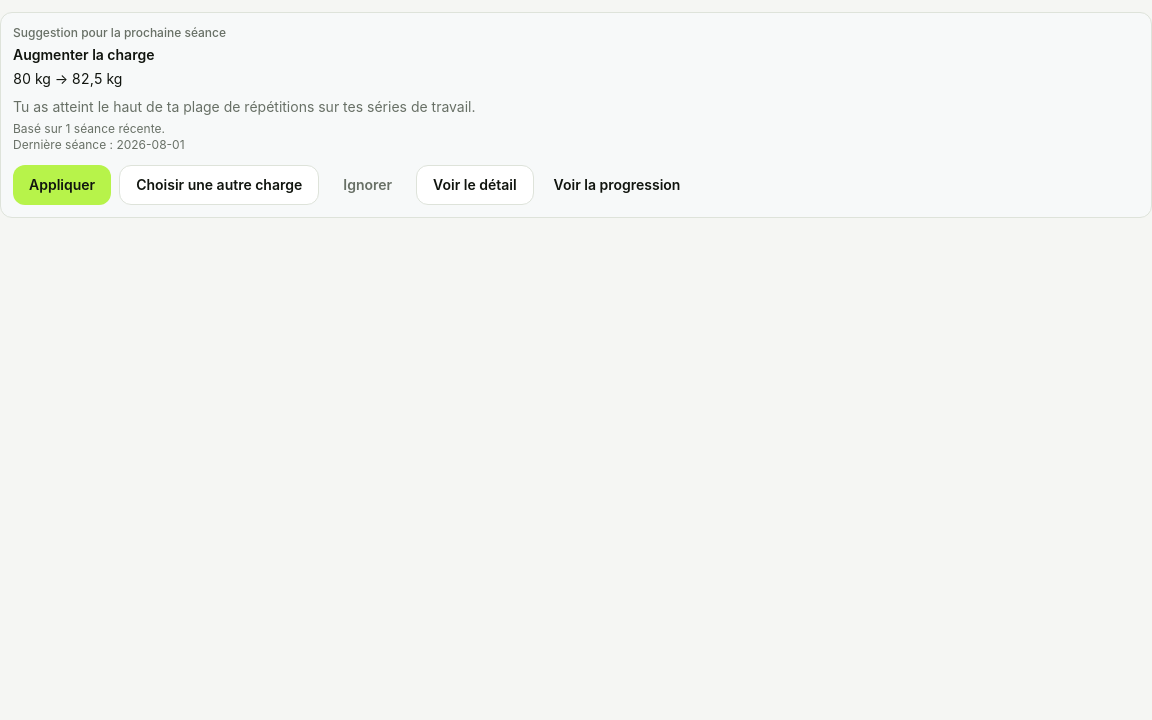
Test case: LoadRecommendationCard (5.1 + 5.2) › applique une recommandation via confirmation
Expected: the text "Augmenter la charge" is shown, [13,46,154,63]
Click the button "Appliquer" at (62,185), box [13,165,111,205]
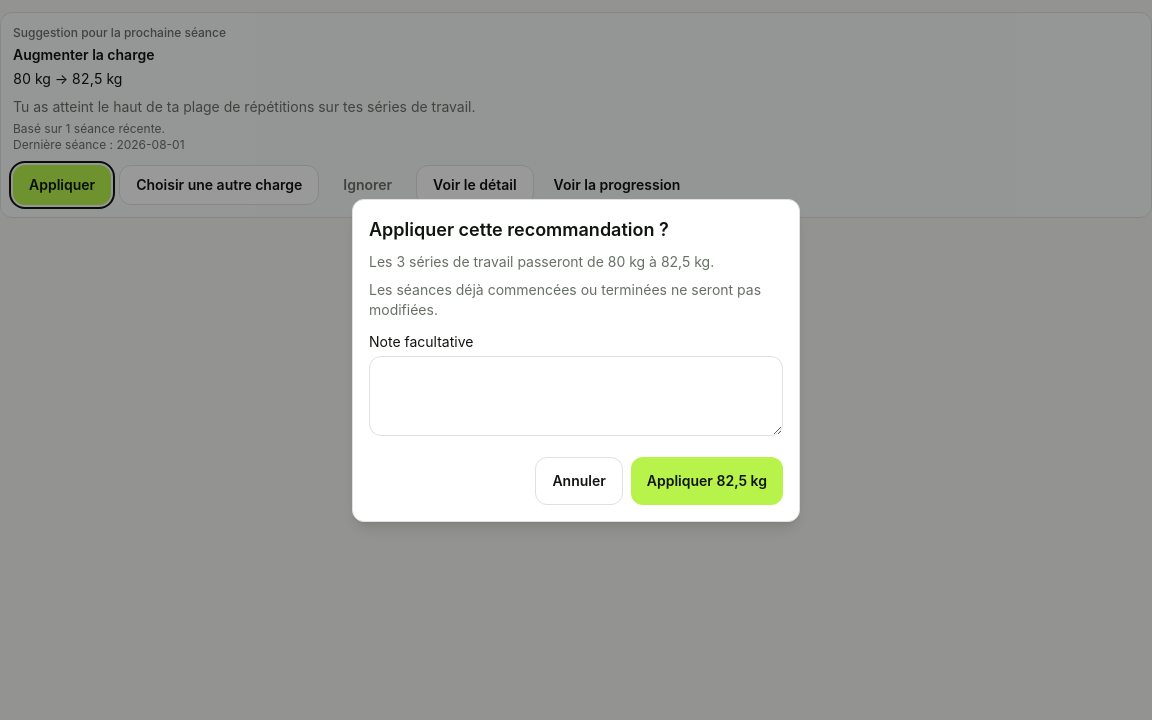
Expected: the text "Les 3 séries de travail passeront de 80 kg à 82,5 kg." is shown, [369,252,714,270]
Click the button "Appliquer 82,5 kg" at (707,480), box [631,456,783,504]
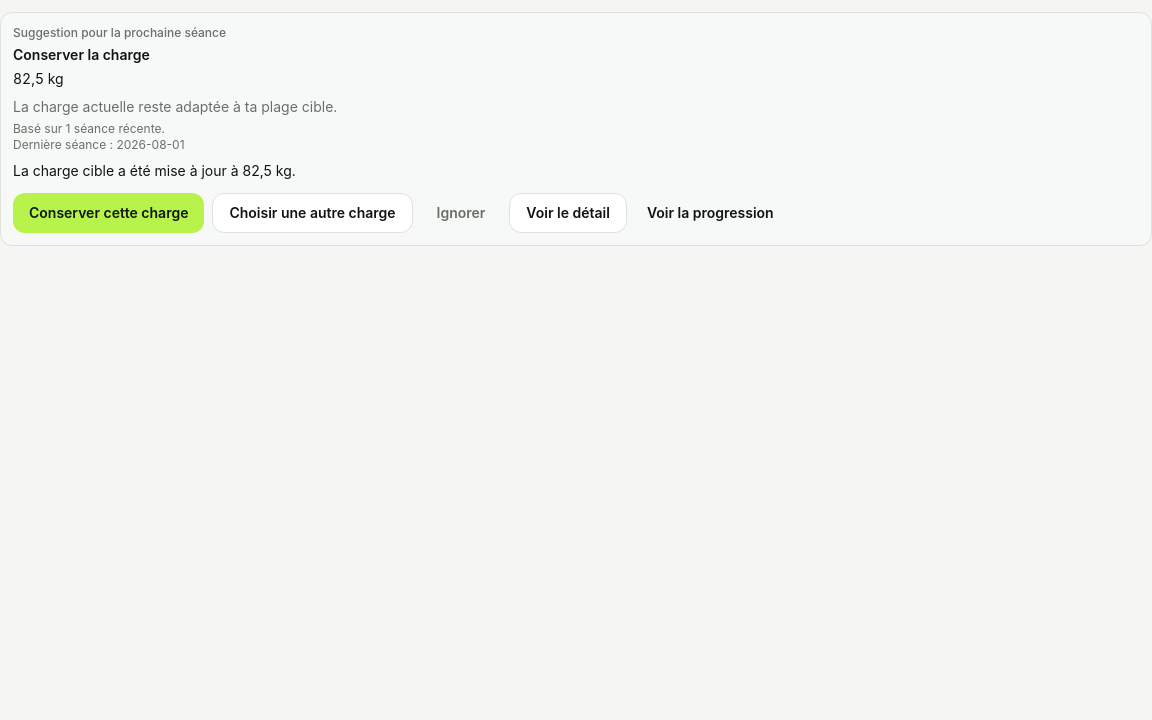
Expected: the text "La charge cible a été mise à jour à 82,5 kg." is shown, [13,162,296,179]
